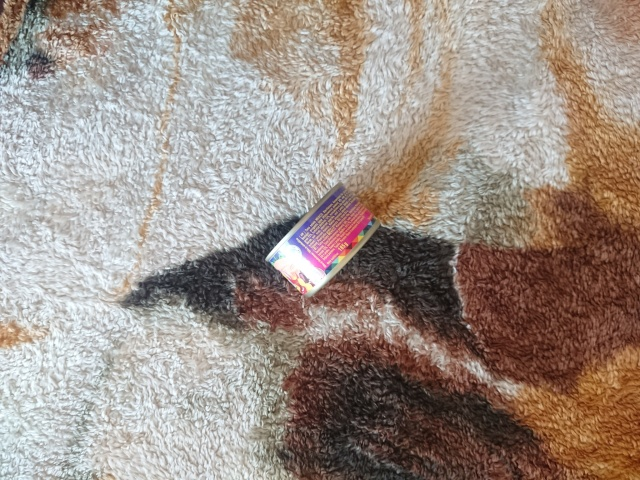Giana Tuna Salad Mexico 185g: (262, 177, 386, 301)
